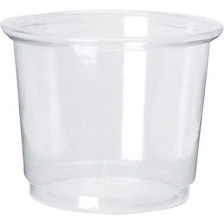glass: (0, 4, 224, 217)
